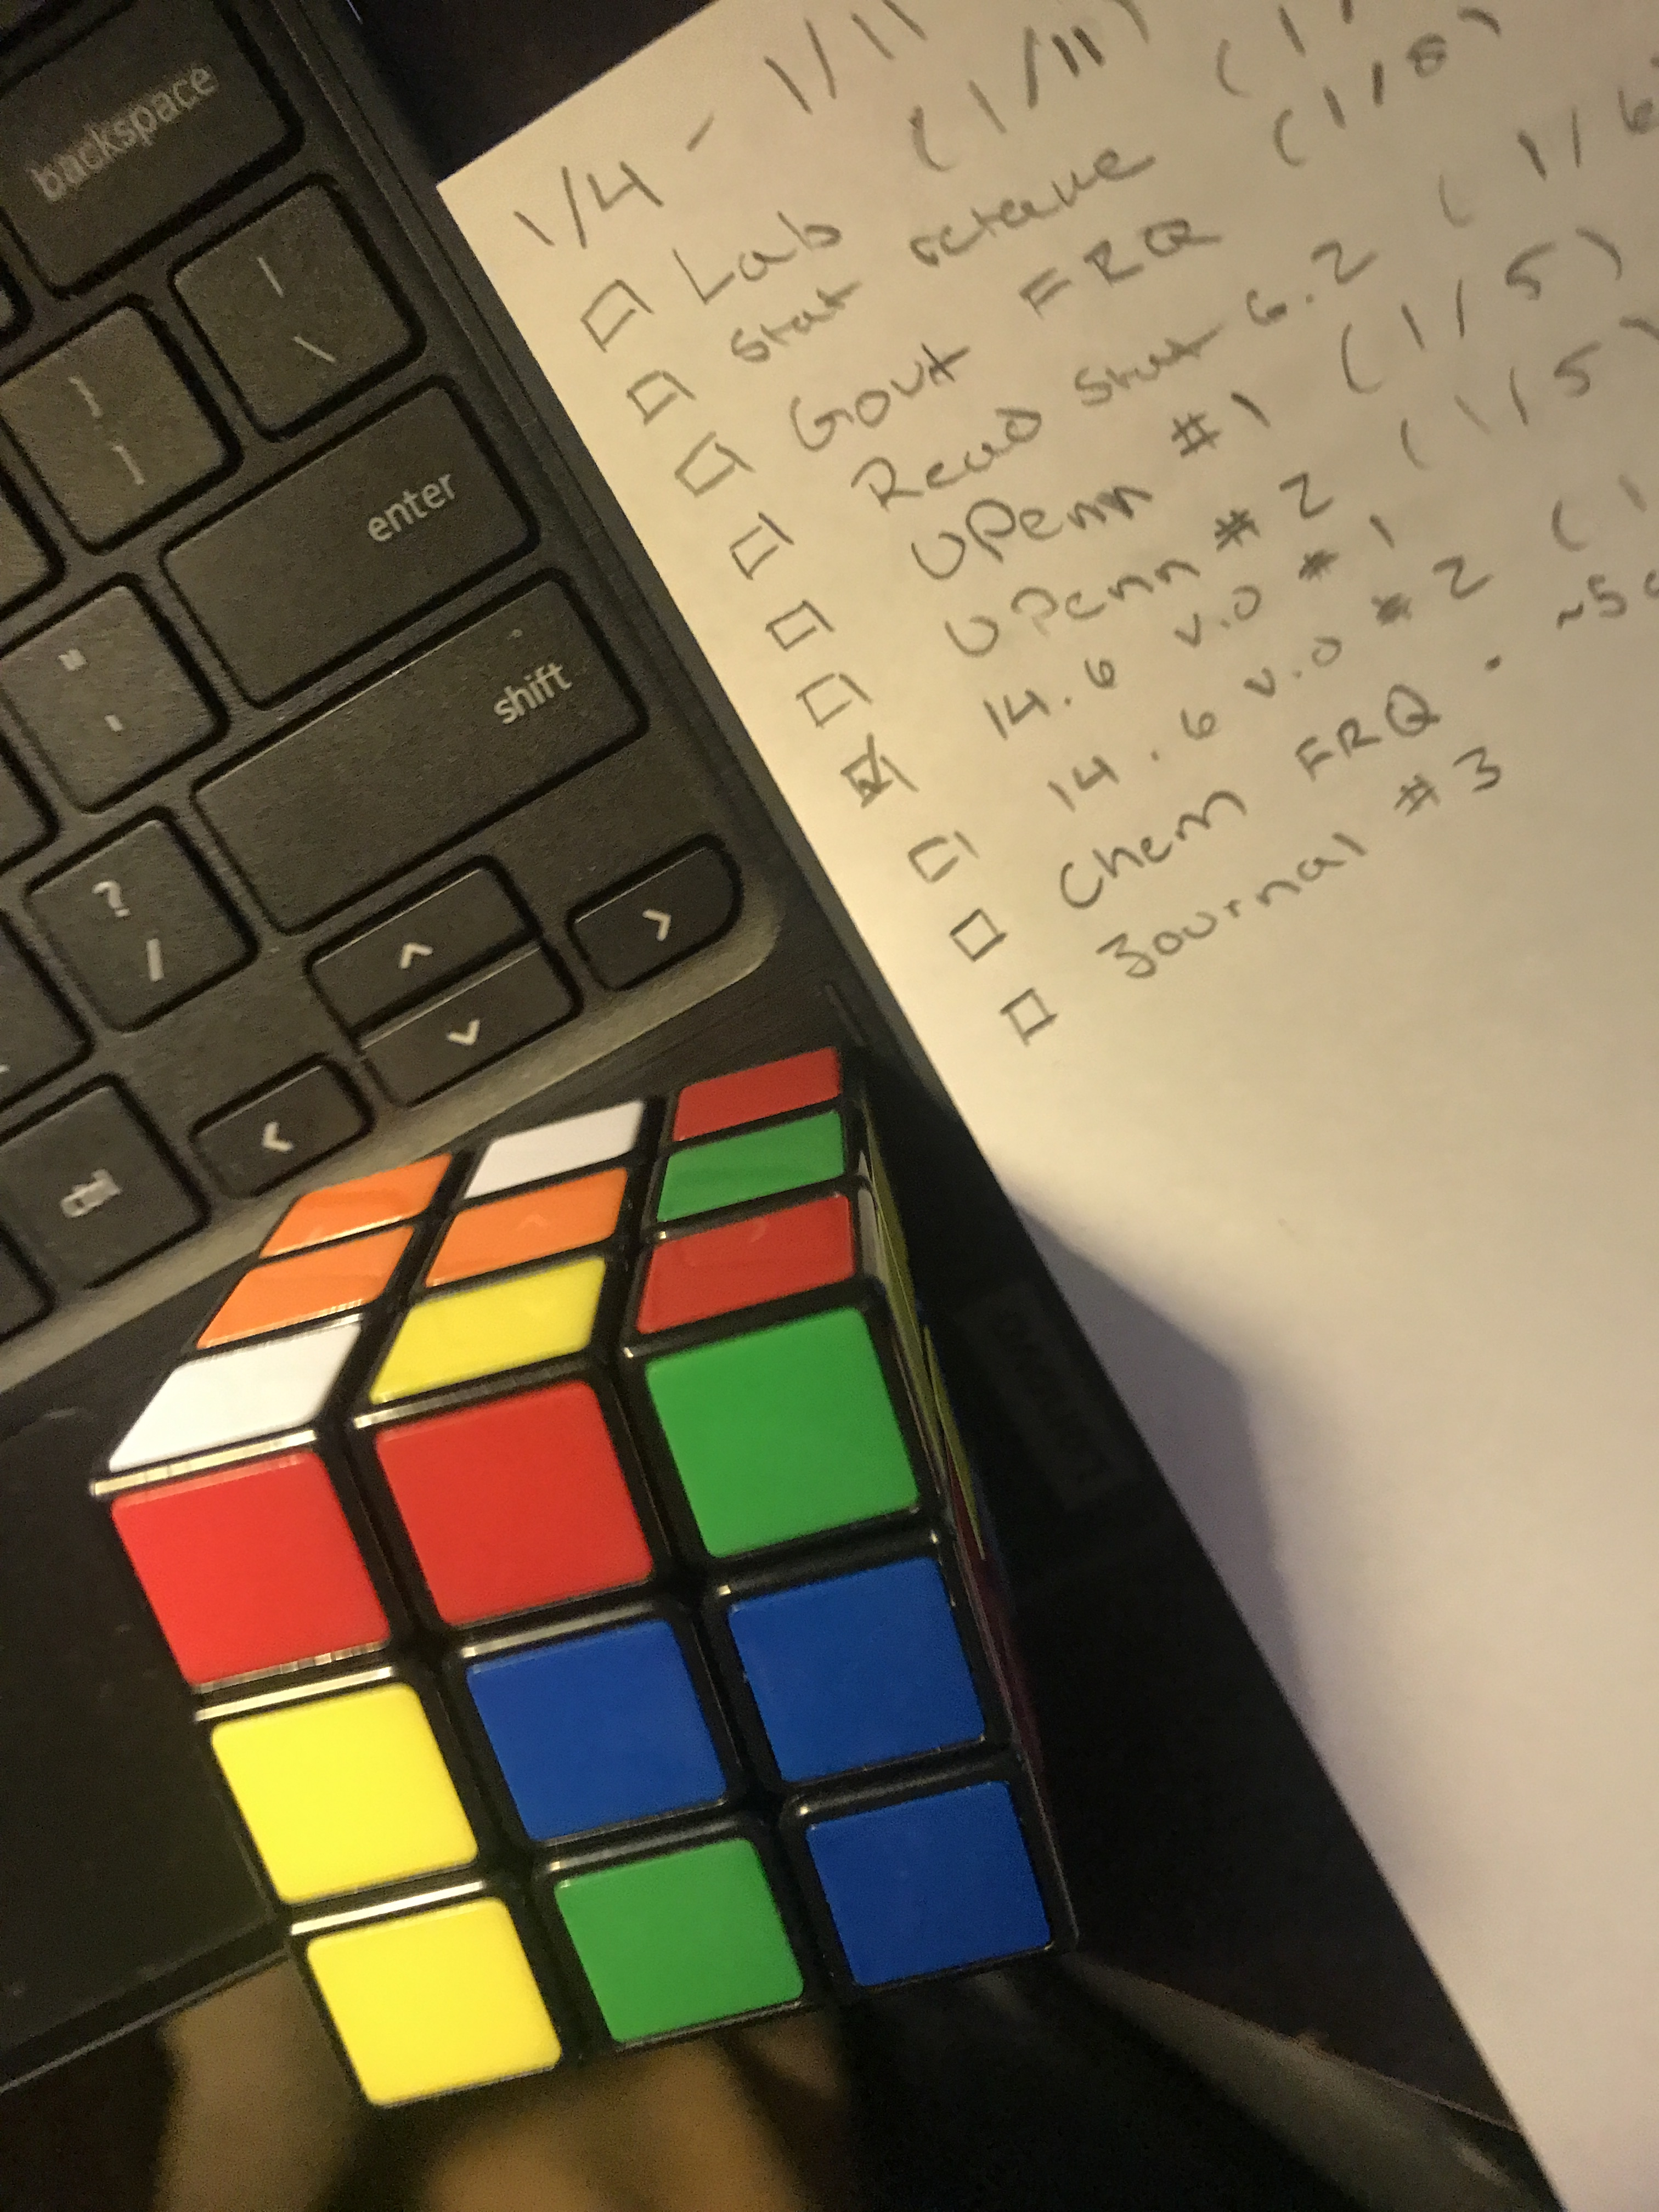rubiks: (106, 1047, 1091, 2127)
